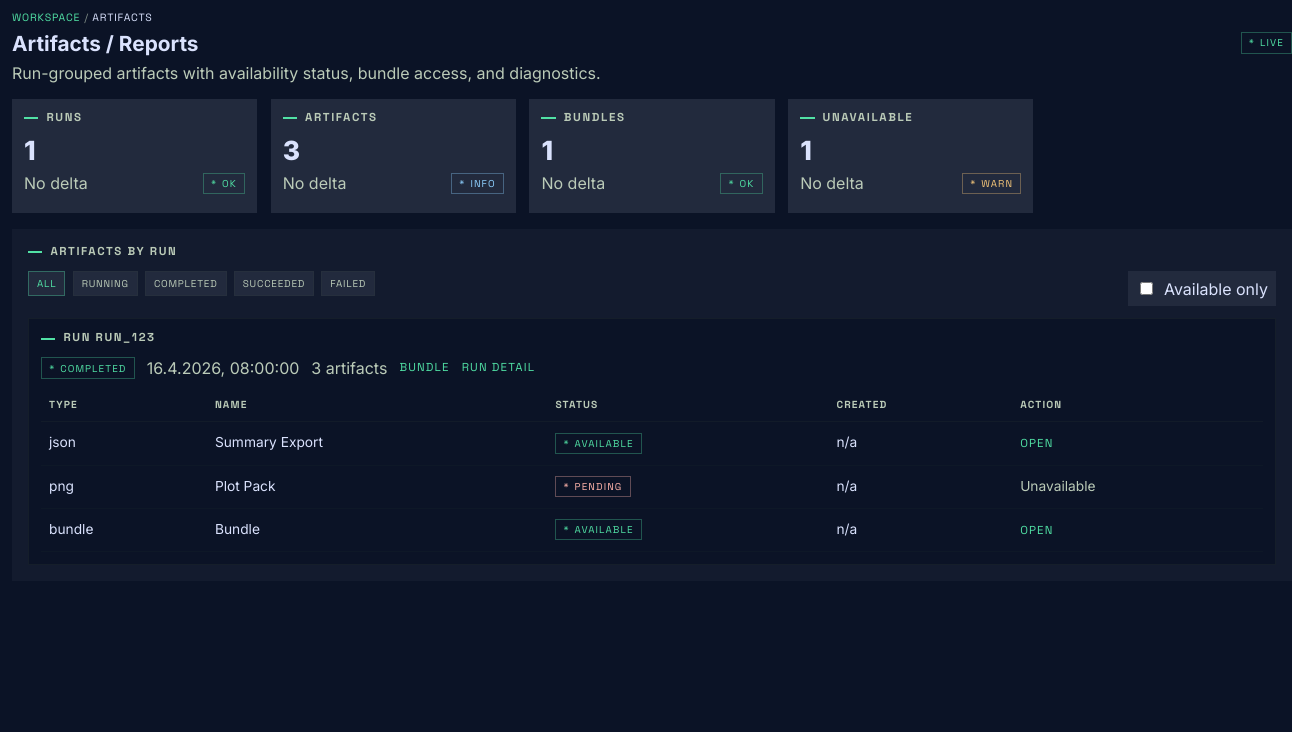
Scenario: ArtifactsView › renders grouped artifacts and supports available-only mode
Expected: the heading "Artifacts / Reports" is shown, top-left (12, 32), bottom-right (198, 57)
Expected: the text "Summary Export" is shown, top-left (207, 422), bottom-right (547, 465)
Click the checkbox labelled "Available only". click: point(1146, 289)
box: top-left (1140, 282), bottom-right (1153, 295)
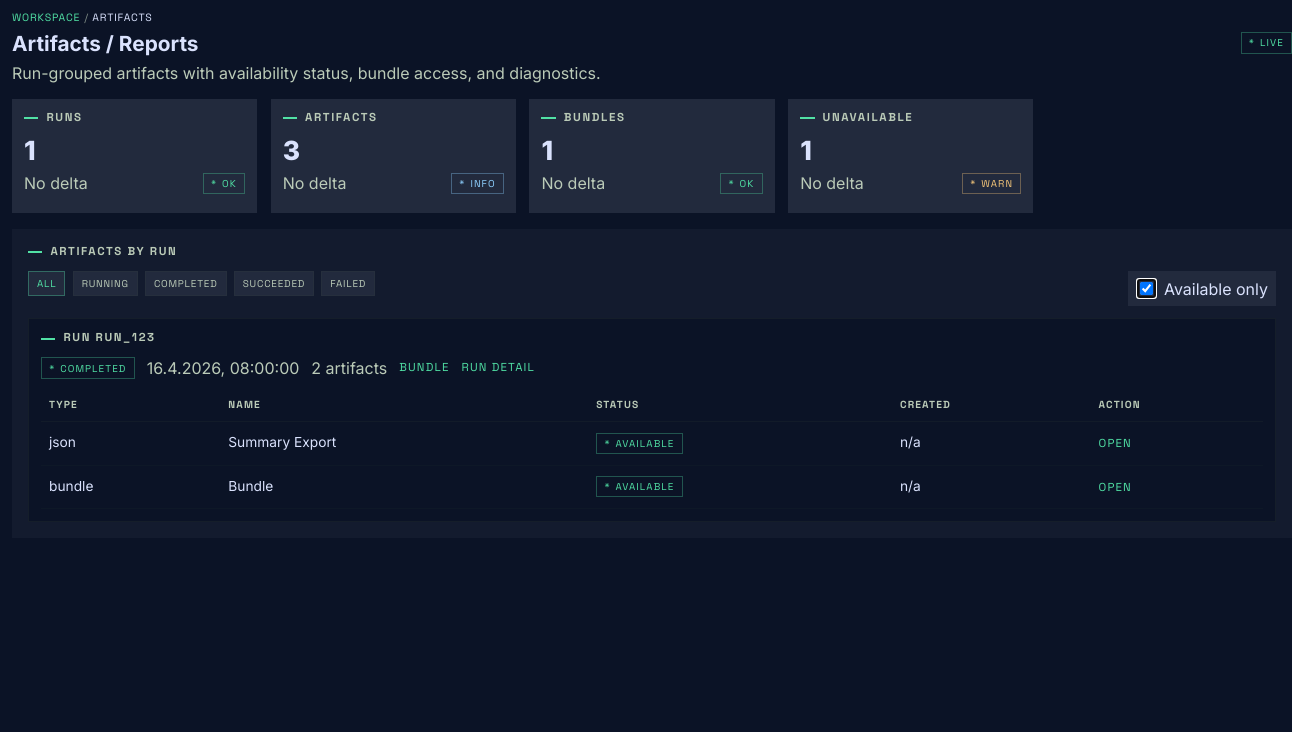
Expected: the text "Summary Export" is shown, top-left (220, 422), bottom-right (588, 465)
Now the text "Plot Pack" is gone
